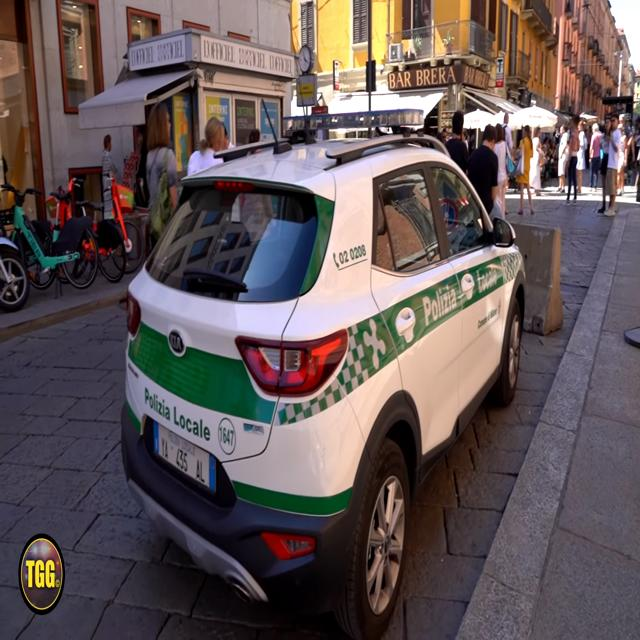emergency-vehicles: (91, 103, 550, 640)
